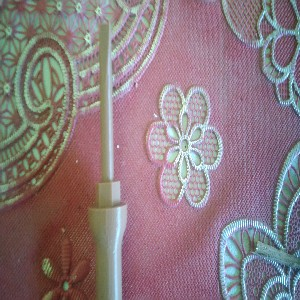obeng: (86, 22, 128, 300)
